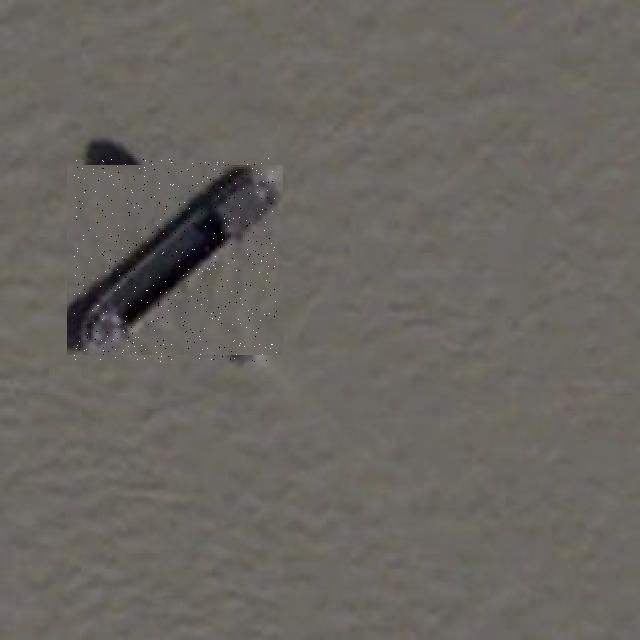boat: (74, 158, 277, 362)
